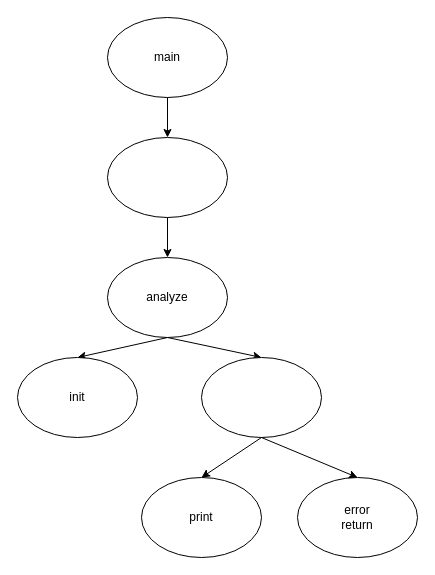
The diagram is 435 pixels wide and 575 high, and some of its shapes have lost their labels. The centre of each missing label's shape, as x and y in pixels:
is Terminator: pixel 261 397
readfile: pixel 167 177
